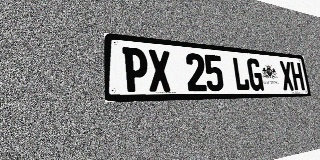2: (185, 52, 207, 91)
5: (204, 54, 224, 91)
G: (246, 58, 264, 91)
H: (290, 62, 305, 90)
L: (232, 57, 250, 91)
P: (122, 47, 149, 92)
X: (147, 49, 172, 92), (279, 61, 295, 91)
